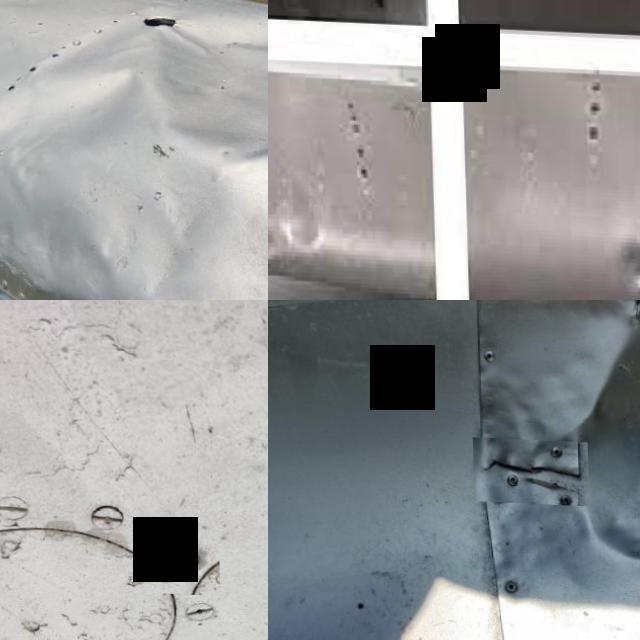Crack: (472, 435, 588, 503), (620, 300, 640, 323)
Dent: (551, 300, 640, 601), (0, 35, 156, 194), (136, 30, 268, 184), (268, 171, 320, 264), (616, 238, 640, 289)
Missing_Fastener: (140, 517, 218, 592)
